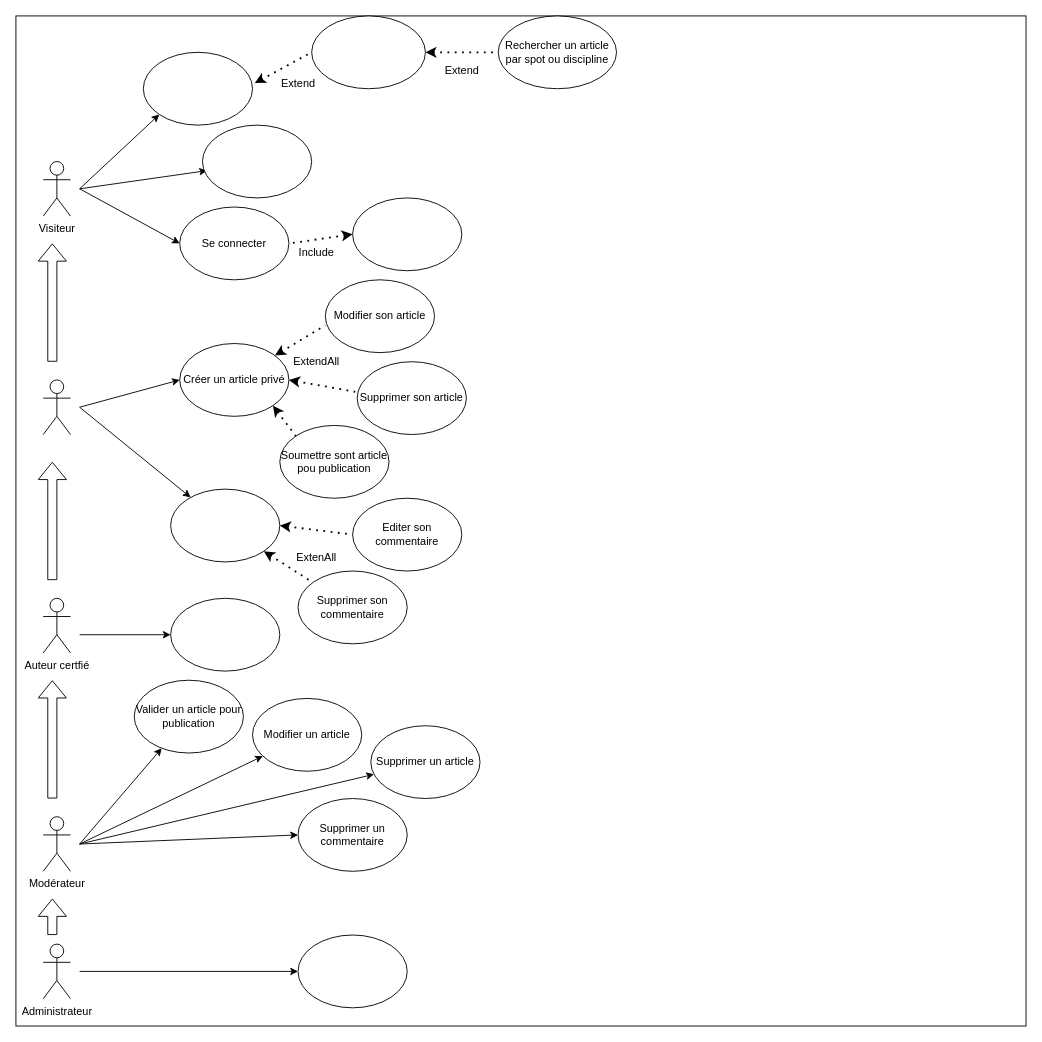
Some shapes in this 1042 by 1042 pixel diagram are drawn without their labels. The shapes that lost their labels are listed below. From the top down, each one's box as (x1, y1, x2, y2) in pixels, then its label:
(311, 15, 425, 89): Visualiser les articles
(142, 51, 253, 125): Consulter les articles
(202, 124, 312, 198): S'enregistrer
(352, 197, 462, 271): S'authentifier
(42, 379, 71, 435): Utilisateur
(170, 488, 280, 562): Poster un commentaire dans un article
(170, 597, 280, 671): créer un article public
(297, 934, 407, 1008): Promouvoir un user
